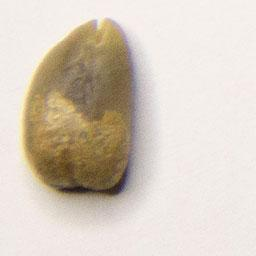longberry: (20, 13, 134, 196)
